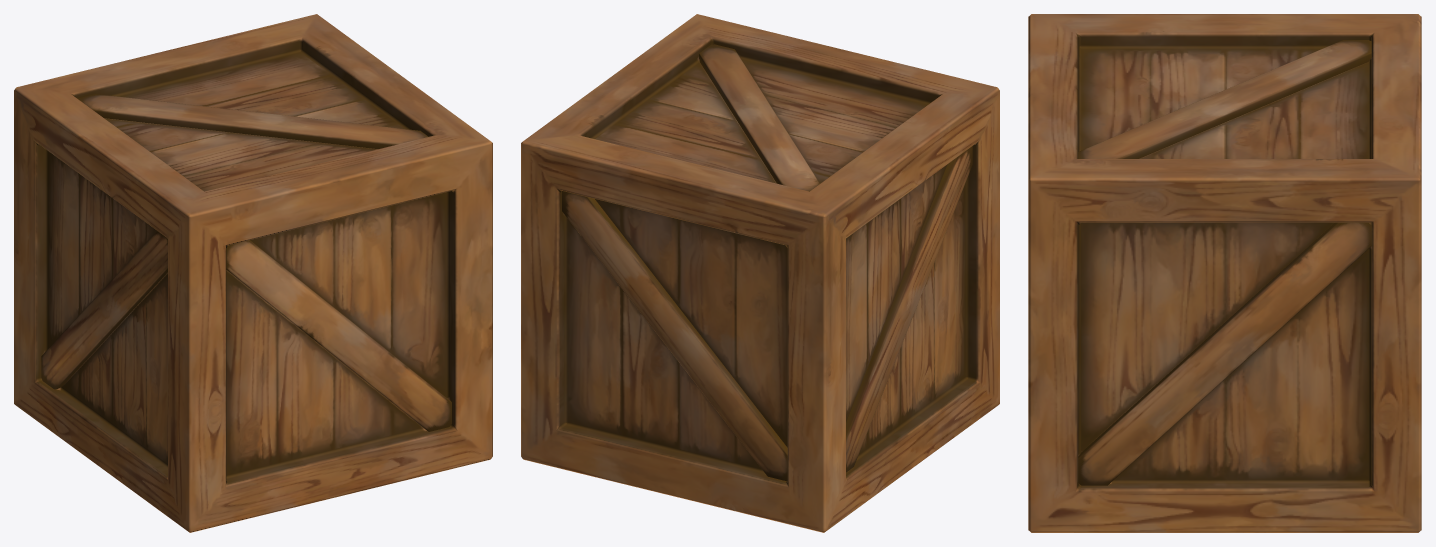
The model's file is WoodenBox.fbx.
3 renders of one model, left to right at view 1: azimuth 30°, elevation 25°; view 2: azimuth 150°, elevation 25°; view 3: azimuth 270°, elevation 25°, orthographic. The views are drawn at different scales.
Visible parts, largest first — view 1: WoodenBox, WoodenBox_Parts.026, WoodenBox_Parts.031, WoodenBox_Parts.029; view 2: WoodenBox, WoodenBox_Parts.028, WoodenBox_Parts.029, WoodenBox_Parts.031; view 3: WoodenBox, WoodenBox_Parts.027, WoodenBox_Parts.031.
Boxes of the visible parts, x1,y1,x2,y2 form: WoodenBox: (14,14,492,532); WoodenBox_Parts.026: (226,240,451,431); WoodenBox_Parts.031: (77,94,428,148); WoodenBox_Parts.029: (41,231,167,389); WoodenBox: (521,14,999,532); WoodenBox_Parts.028: (562,191,787,481); WoodenBox_Parts.029: (846,146,972,472); WoodenBox_Parts.031: (699,44,819,191); WoodenBox: (1028,14,1421,532); WoodenBox_Parts.027: (1078,222,1371,485); WoodenBox_Parts.031: (1078,40,1371,158).
Bounding box in the file's own units: 0.5 × 0.4989 × 0.5.
